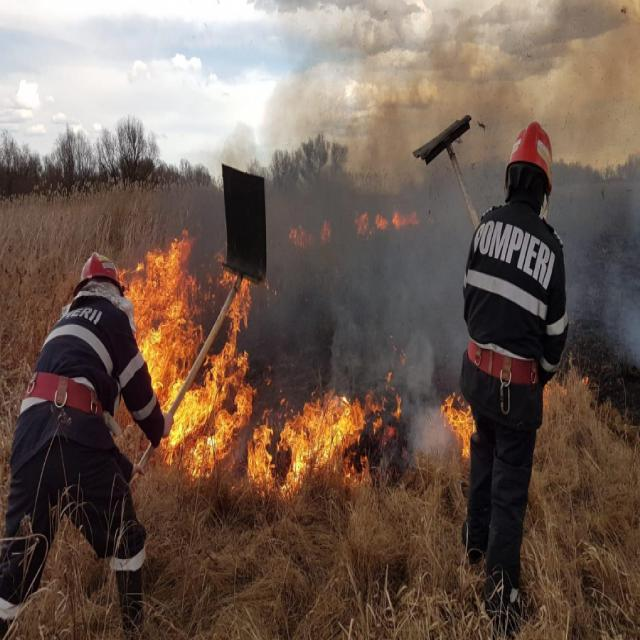Fire: (125, 208, 255, 474), (241, 383, 385, 498), (432, 385, 478, 465)
Smoke: (286, 1, 638, 335)
